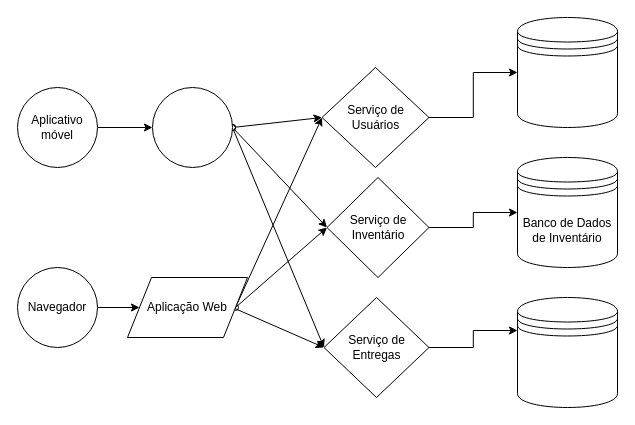
This 635x425 diagram has some shape labels left out. Here are the shapes that lost their labels. From the top down, the box of each, then its label:
(516, 16, 618, 128): Banco de Dados de Usuários
(152, 86, 232, 168): API Móvel
(516, 296, 618, 408): Banco de Dados de Entragas
